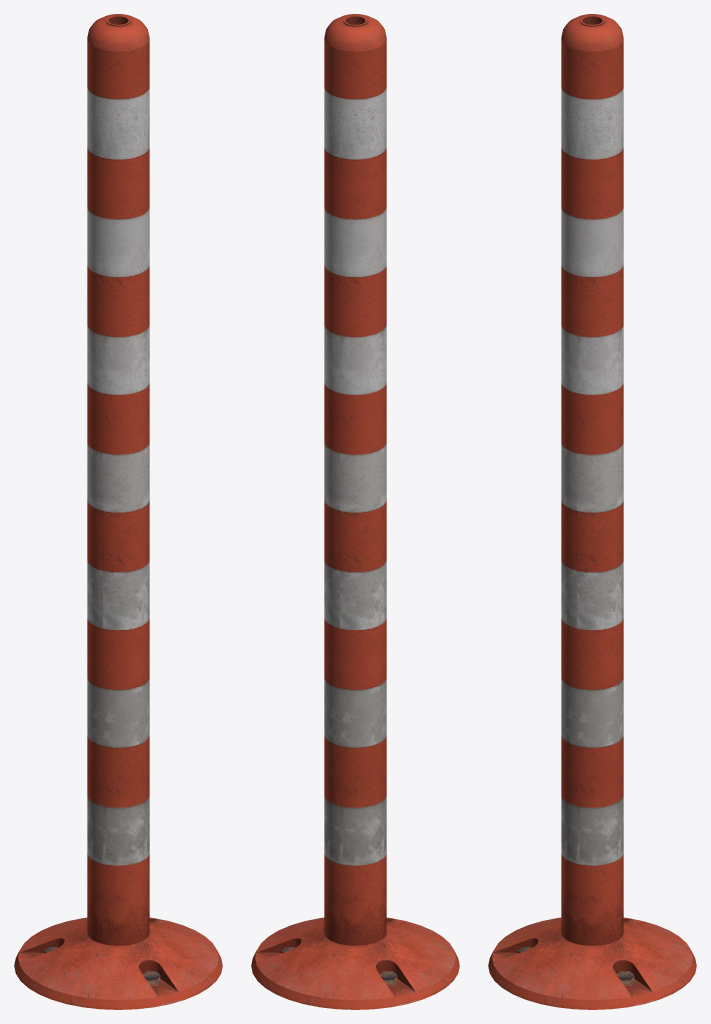
Rendered from obstacle.glb.
The picture shows the model from 3 angles, left to right: view 1: azimuth 30°, elevation 25°; view 2: azimuth 150°, elevation 25°; view 3: azimuth 270°, elevation 25°; orthographic projection.
Parts seen in each view (by area): view 1: Circle_low; view 2: Circle_low; view 3: Circle_low.
Boxes of the visible parts, x1=… form: Circle_low: x1=14, y1=14, x2=222, y2=1009; Circle_low: x1=251, y1=14, x2=459, y2=1009; Circle_low: x1=488, y1=14, x2=696, y2=1009.
Bounding box in the file's own units: 0.2 × 0.9997 × 0.2.
Materials: 1 (1 with a texture image).
